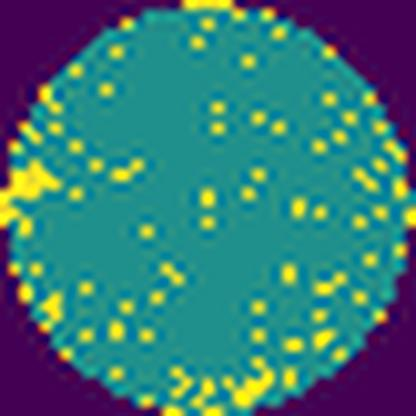Edge-Loc: (0, 160, 64, 233)
